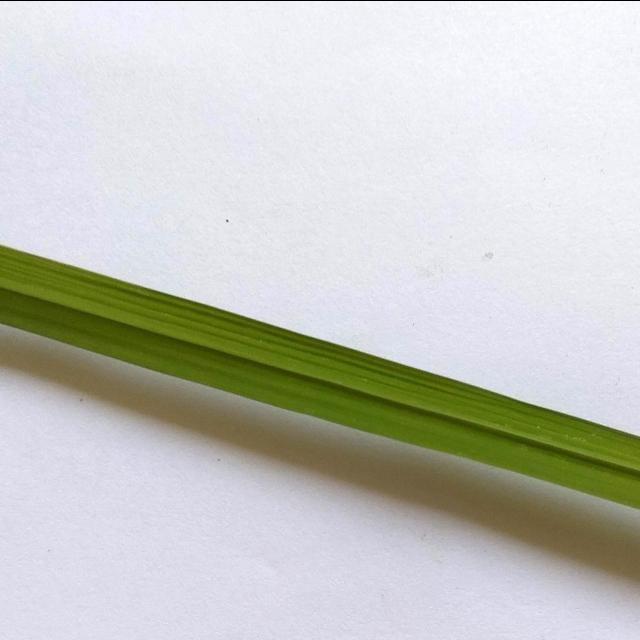healthy: (0, 192, 640, 530)
